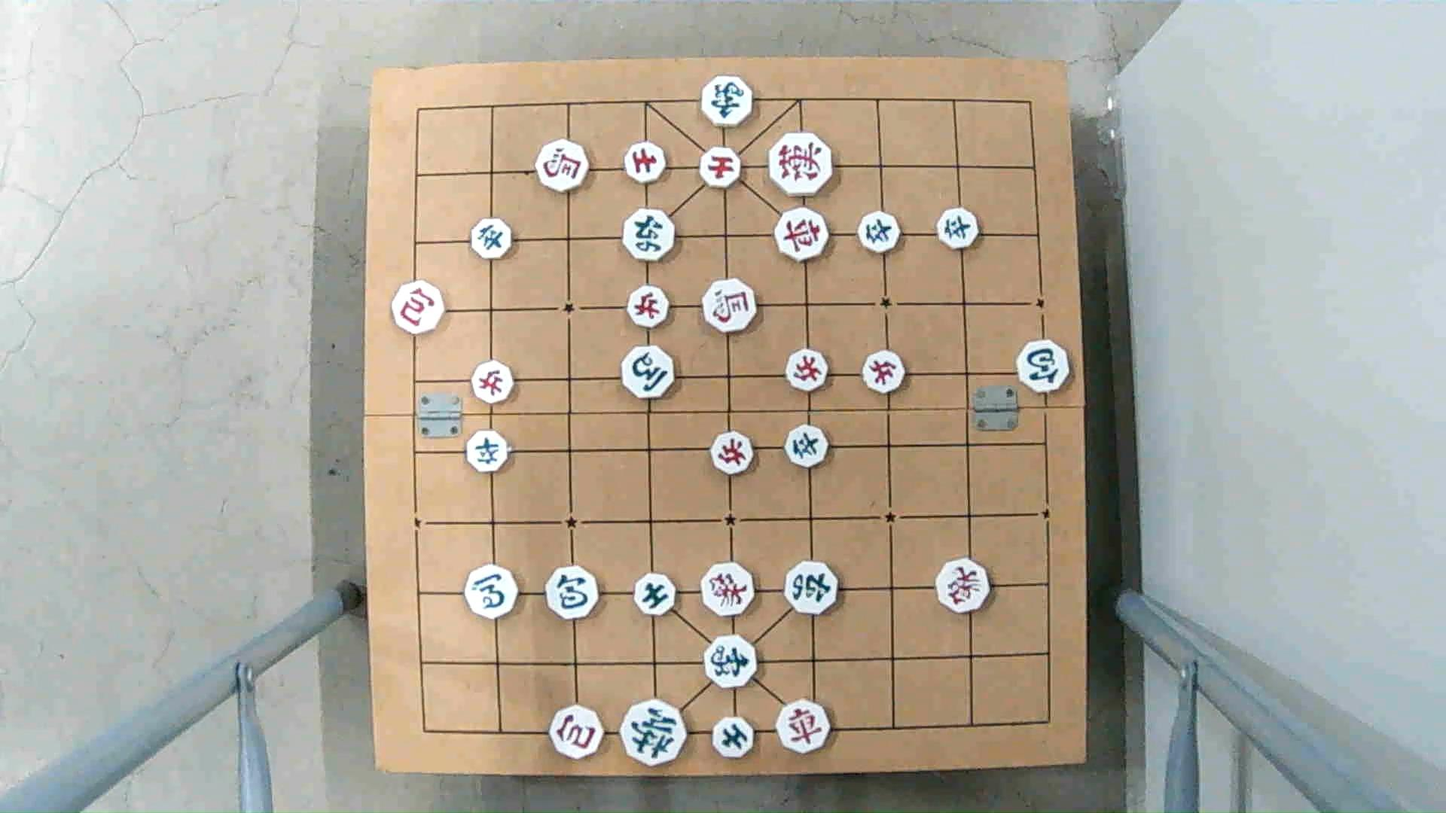cha_green: (784, 562, 837, 616), (621, 209, 677, 260)
cha_red: (774, 210, 831, 260), (774, 703, 830, 752)
jol_green: (465, 432, 512, 471), (783, 428, 829, 466), (469, 219, 514, 257), (936, 208, 981, 246), (859, 212, 901, 251)
jol_red: (711, 433, 755, 475), (628, 286, 674, 325), (862, 352, 908, 391), (784, 352, 829, 390), (472, 362, 514, 402)
ma_green: (462, 566, 519, 617), (621, 348, 676, 397)
ma_red: (701, 282, 758, 330), (533, 142, 590, 190)
po_green: (1017, 340, 1072, 392), (543, 569, 599, 618)
po_red: (390, 284, 447, 333), (552, 707, 601, 759)
sa_green: (712, 718, 757, 760), (633, 573, 676, 615)
sa_red: (698, 146, 745, 188), (622, 142, 667, 181)
sang_green: (705, 637, 756, 688), (702, 76, 750, 127)
sang_red: (934, 562, 990, 611), (700, 566, 754, 613)
wang_green: (621, 702, 688, 763)
wang_red: (771, 136, 828, 192)
